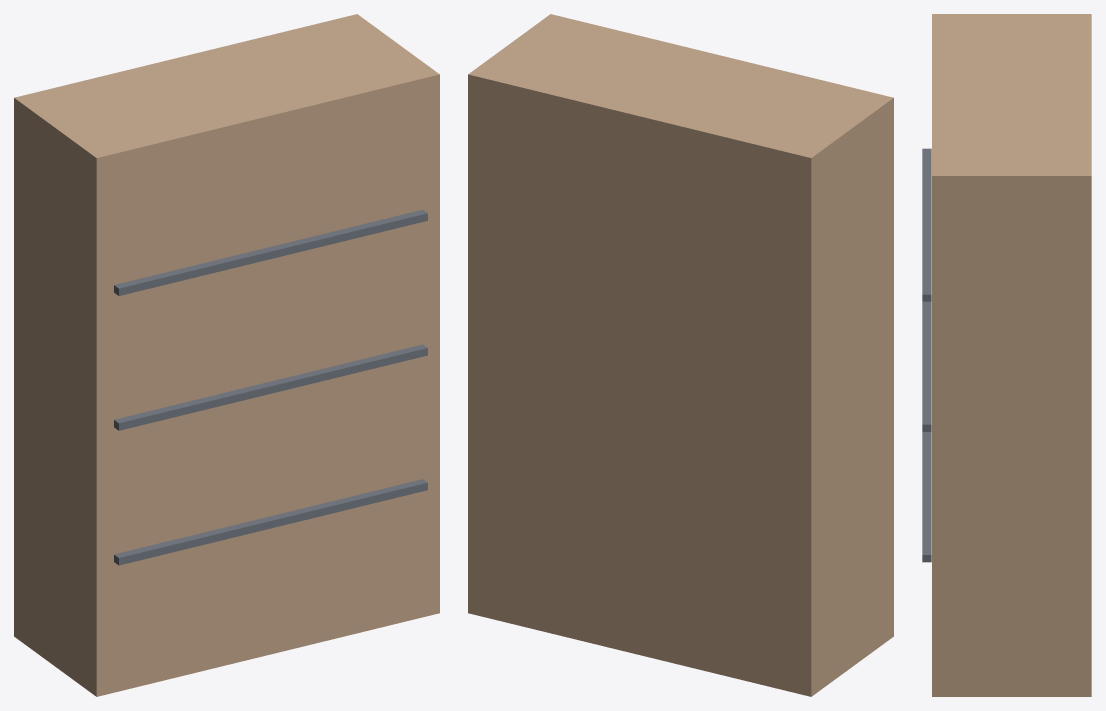
Rendered from storage.glb.
3 renders of one model, left to right at view 1: azimuth 30°, elevation 25°; view 2: azimuth 150°, elevation 25°; view 3: azimuth 270°, elevation 25°, orthographic. The views are drawn at different scales.
Parts seen in each view (by area): view 1: cabinet, shelf_1, shelf_2, shelf_3; view 2: cabinet; view 3: cabinet, shelf_3, shelf_1, shelf_2.
Boxes of the visible parts, box(x1,y1,x2,y2) form: cabinet: box(14, 14, 439, 696); shelf_1: box(114, 479, 427, 565); shelf_2: box(114, 344, 427, 430); shelf_3: box(114, 209, 427, 295); cabinet: box(468, 14, 893, 696); cabinet: box(932, 14, 1091, 696); shelf_3: box(922, 148, 931, 301); shelf_1: box(922, 432, 931, 562); shelf_2: box(922, 301, 931, 431).
Size of the model in its own units: 1.2 by 1.8 by 0.531.
